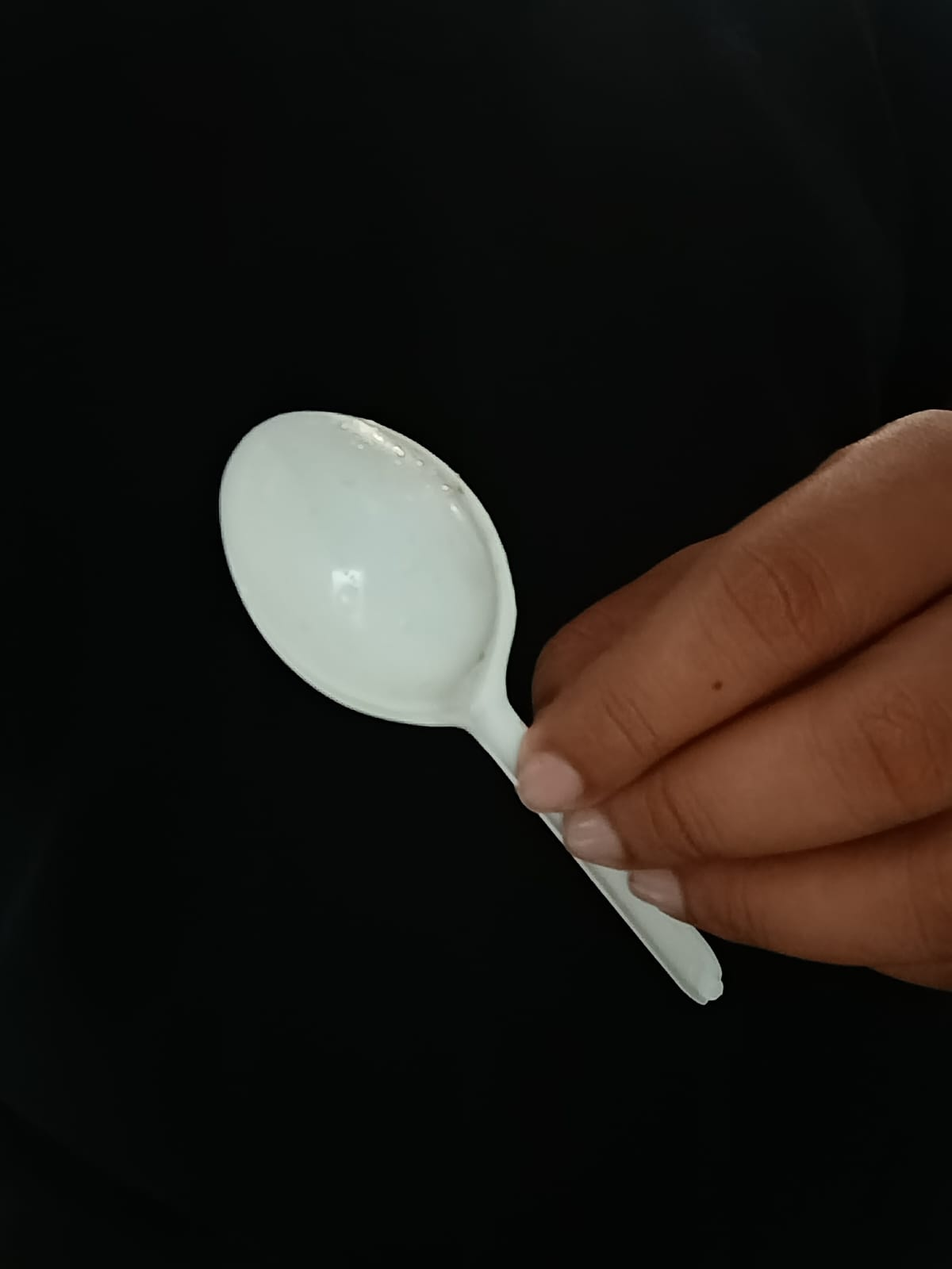Ordinario: (218, 411, 726, 1004)
